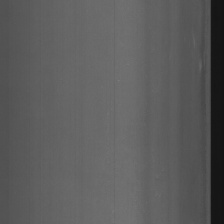silk_spot: (191, 10, 209, 77)
